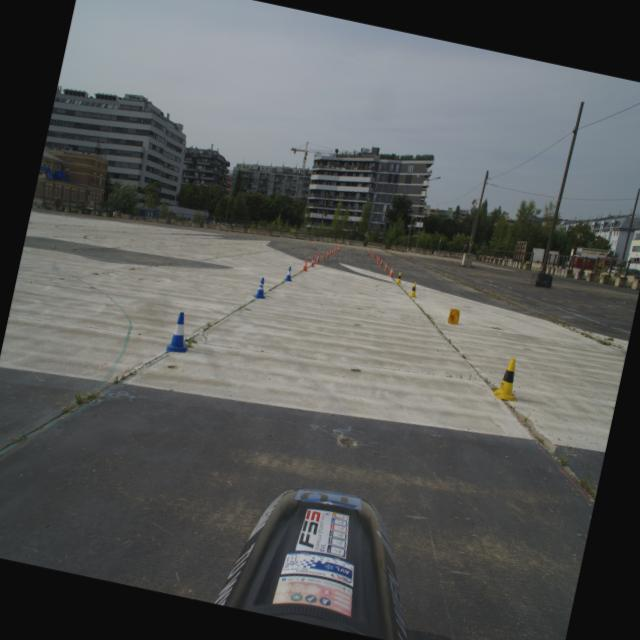blue_cone: (165, 310, 194, 355), (253, 276, 270, 300), (284, 266, 294, 282)
large_orange_cone: (368, 248, 372, 254), (338, 243, 340, 250)
orange_cone: (302, 257, 310, 271), (309, 255, 316, 267), (388, 265, 394, 277), (383, 261, 389, 272), (316, 253, 322, 263), (378, 258, 384, 267), (321, 251, 326, 260), (376, 256, 381, 264), (326, 249, 330, 257), (374, 254, 378, 261), (328, 248, 332, 254), (331, 248, 335, 254), (334, 246, 337, 252), (372, 252, 375, 258), (369, 250, 372, 255), (336, 246, 339, 250), (370, 252, 373, 256)
yellow_cone: (491, 355, 525, 402), (446, 307, 460, 325), (408, 281, 419, 298), (394, 271, 402, 284)
